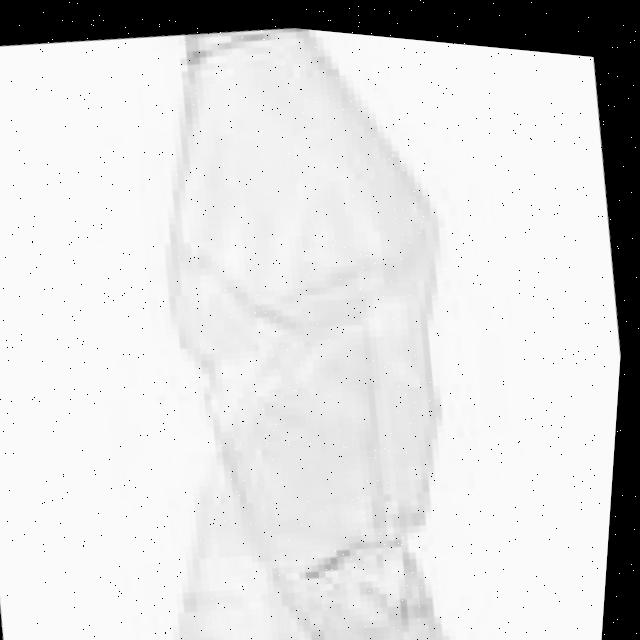sise: (32, 5, 534, 640)
